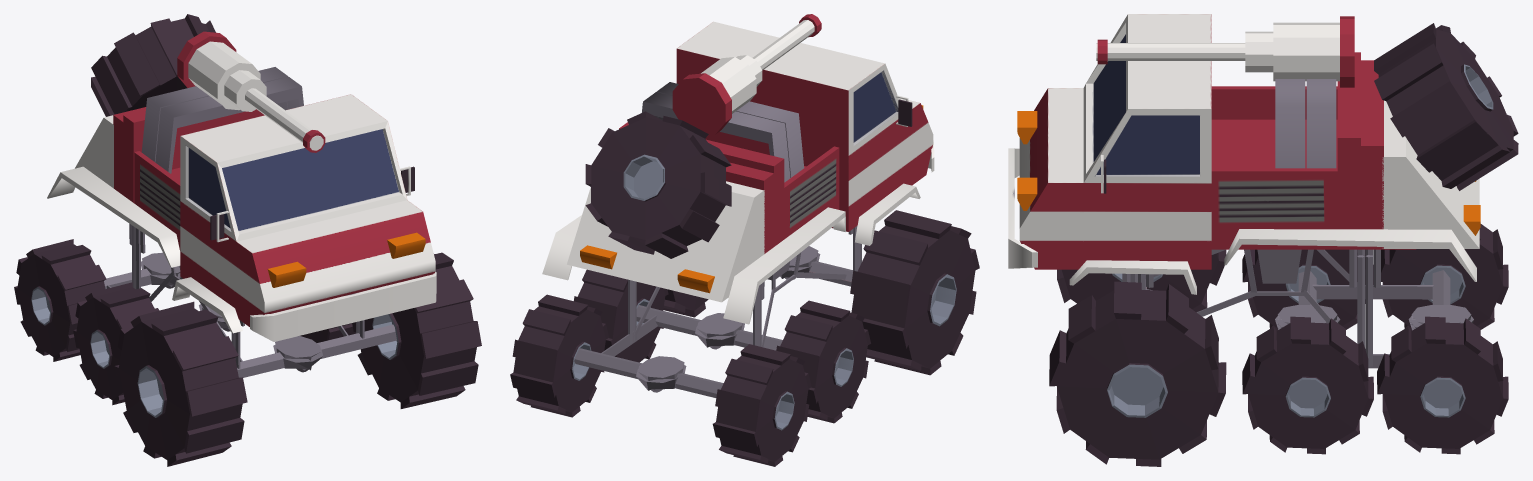
Rendered from car40.fbx.
3 views of the same model, side by side, from view 1: azimuth 30°, elevation 25°; view 2: azimuth 150°, elevation 25°; view 3: azimuth 270°, elevation 25° (orthographic). The views are drawn at different scales.
Visible parts, largest first — view 1: car40_body, car40_front_wheel_RGH, car40_front_wheel_LEF, car40_rear2_wheel_RGH, car40_axle, car40_rear1_wheel_RGH, car40_rear1_wheel_LEF; view 2: car40_body, car40_front_wheel_RGH, car40_axle, car40_rear2_wheel_RGH, car40_rear2_wheel_LEF, car40_rear1_wheel_RGH, car40_rear1_wheel_LEF, car40_front_wheel_LEF; view 3: car40_body, car40_front_wheel_LEF, car40_rear2_wheel_LEF, car40_rear1_wheel_LEF, car40_axle, car40_rear2_wheel_RGH, car40_rear1_wheel_RGH, car40_front_wheel_RGH.
Boxes of the visible parts, <box> form: car40_body: <box>47,14,436,341</box>; car40_front_wheel_RGH: <box>114,301,247,466</box>; car40_front_wheel_LEF: <box>352,252,481,408</box>; car40_rear2_wheel_RGH: <box>14,239,106,361</box>; car40_axle: <box>104,223,396,377</box>; car40_rear1_wheel_RGH: <box>73,282,159,405</box>; car40_rear1_wheel_LEF: <box>300,323,355,342</box>; car40_body: <box>542,14,934,324</box>; car40_front_wheel_RGH: <box>850,210,979,375</box>; car40_axle: <box>574,226,861,397</box>; car40_rear2_wheel_RGH: <box>712,344,811,466</box>; car40_rear2_wheel_LEF: <box>510,294,608,417</box>; car40_rear1_wheel_RGH: <box>776,300,870,423</box>; car40_rear1_wheel_LEF: <box>574,269,668,362</box>; car40_front_wheel_LEF: <box>663,289,708,317</box>; car40_body: <box>1008,14,1518,294</box>; car40_front_wheel_LEF: <box>1049,281,1226,466</box>; car40_rear2_wheel_LEF: <box>1377,316,1508,454</box>; car40_rear1_wheel_LEF: <box>1242,316,1373,454</box>; car40_axle: <box>1122,249,1473,368</box>; car40_rear2_wheel_RGH: <box>1381,224,1508,330</box>; car40_rear1_wheel_RGH: <box>1242,249,1373,330</box>; car40_front_wheel_RGH: <box>1057,250,1226,312</box>.
Bounding box in the file's own units: 4.02 × 4.2 × 5.27.
Materials: 1 (1 with a texture image).
